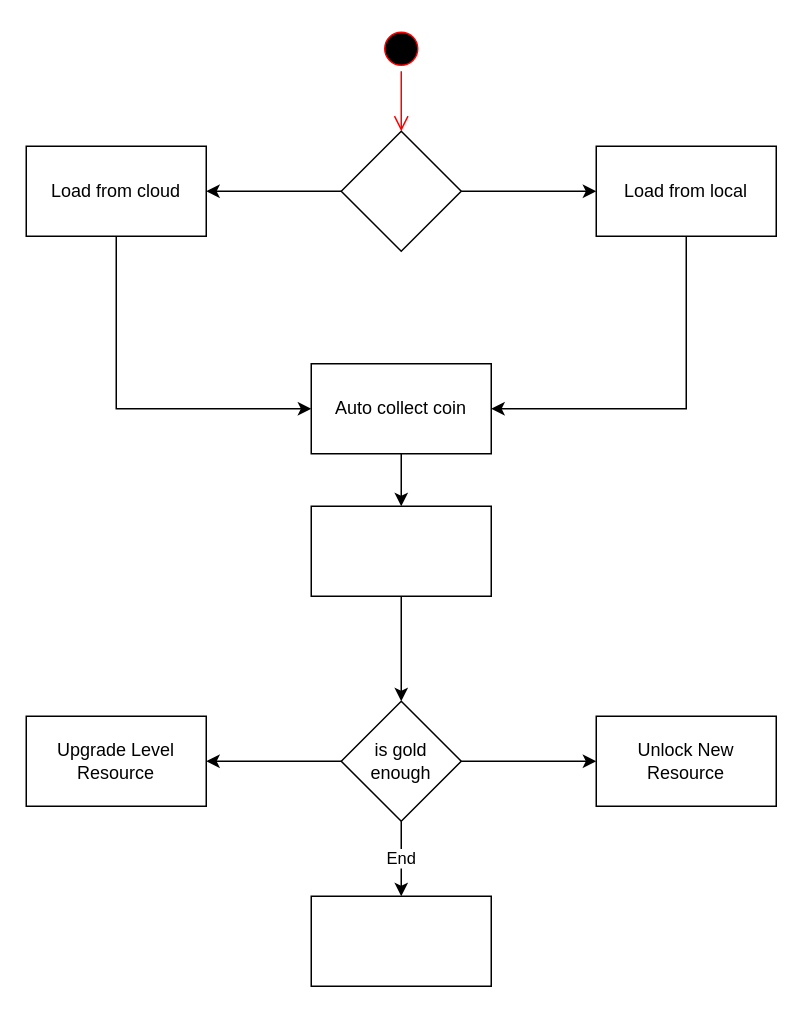
Image size: 803x1013. Some labels were removed from this diagram. Each missing label, with the centre of its shape:
Exit: [400,940]
Load data: [400,190]
Tap to collect coin: [400,550]
